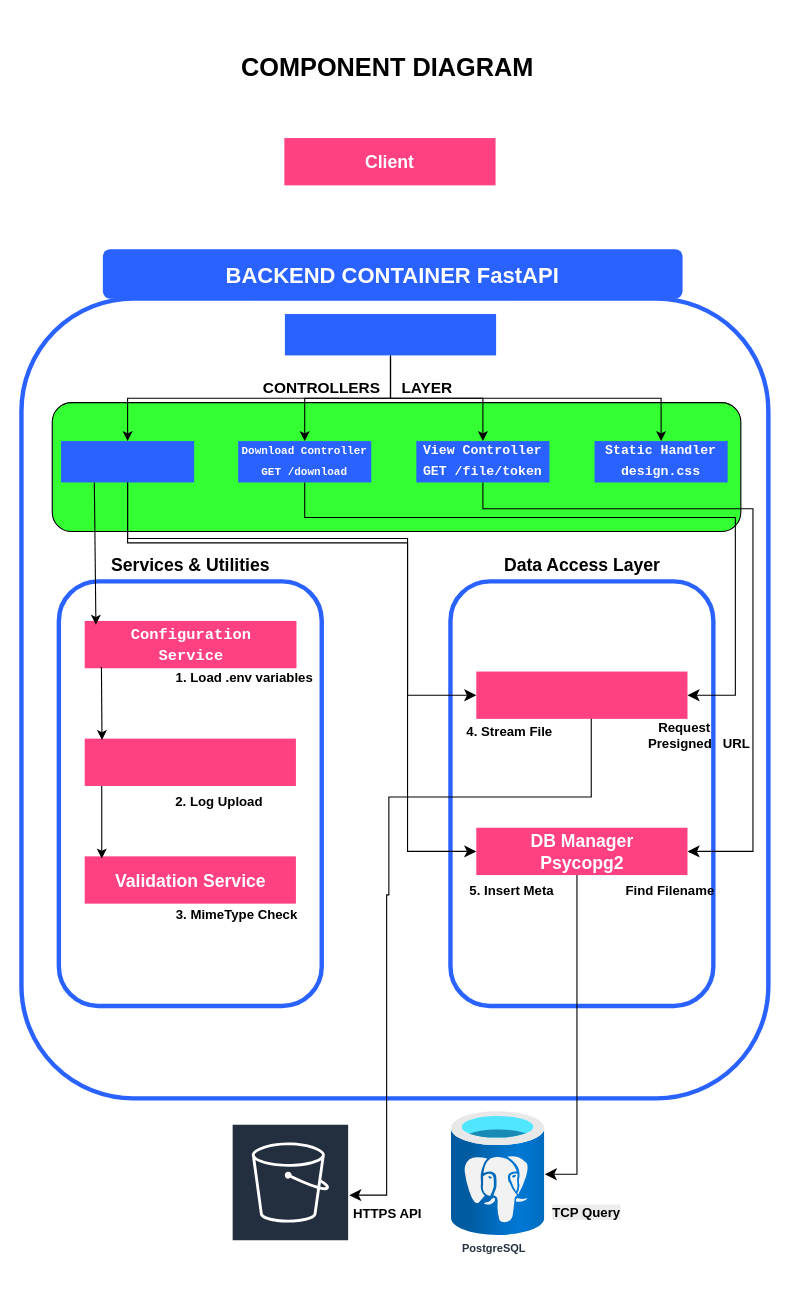
Image size: 796x1290. Some labels were removed from this diagram. The centre of each missing label's shape, as x and y in pixels:
Amazon S3: (289,1194)
API ROUTER: (390,334)
Logger: (189,761)
S3 Manager Boto3 Client: (581,694)
Upload Controller POST / upload: (127,461)
